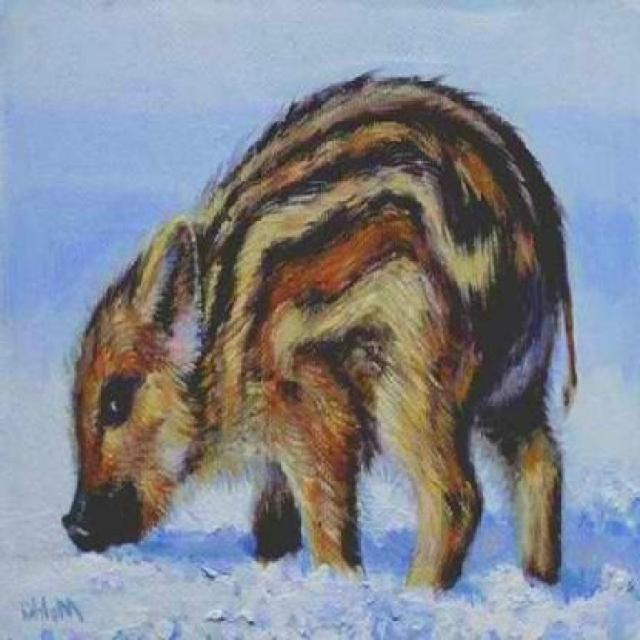Boar: (63, 26, 586, 640)
